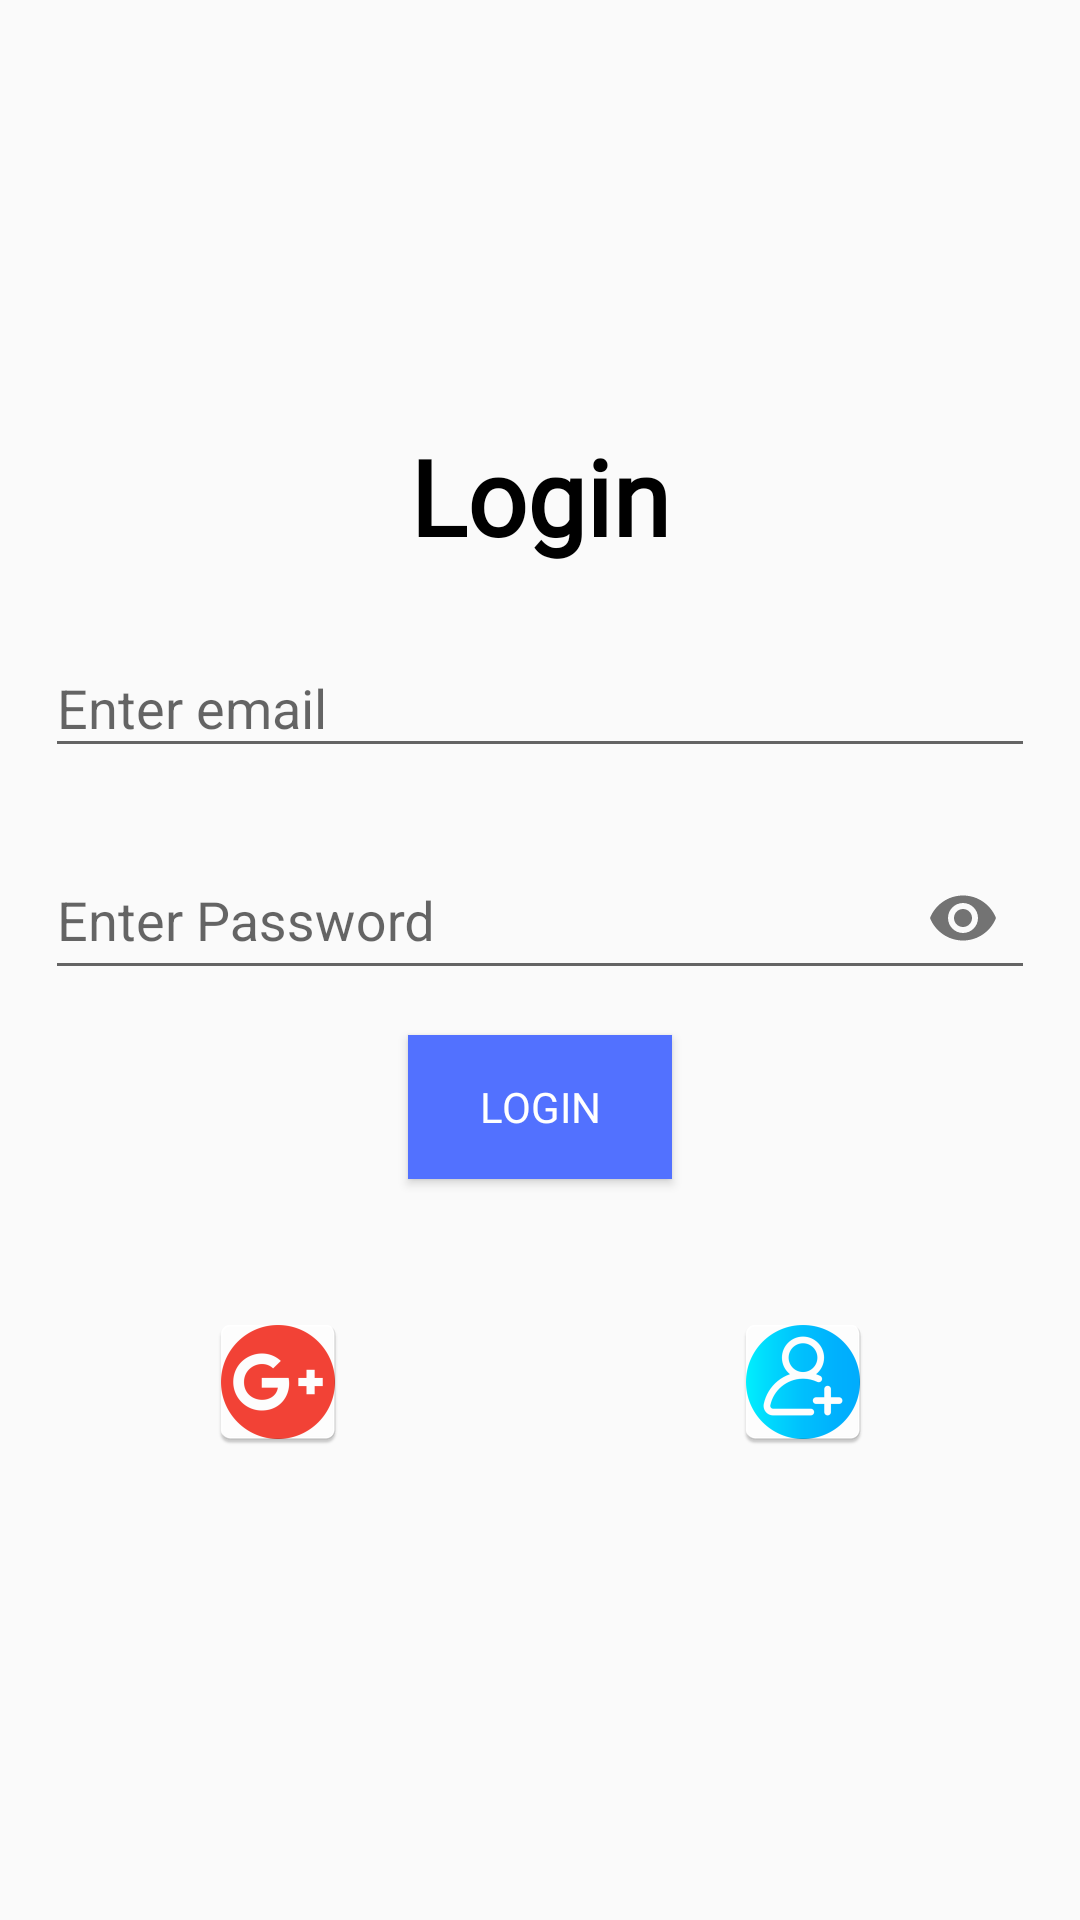

Locate icon controls on the screen. Image size 1080x1920, boxes as [x1, y1, x2, y2].
adduser: [746, 1325, 861, 1443]
